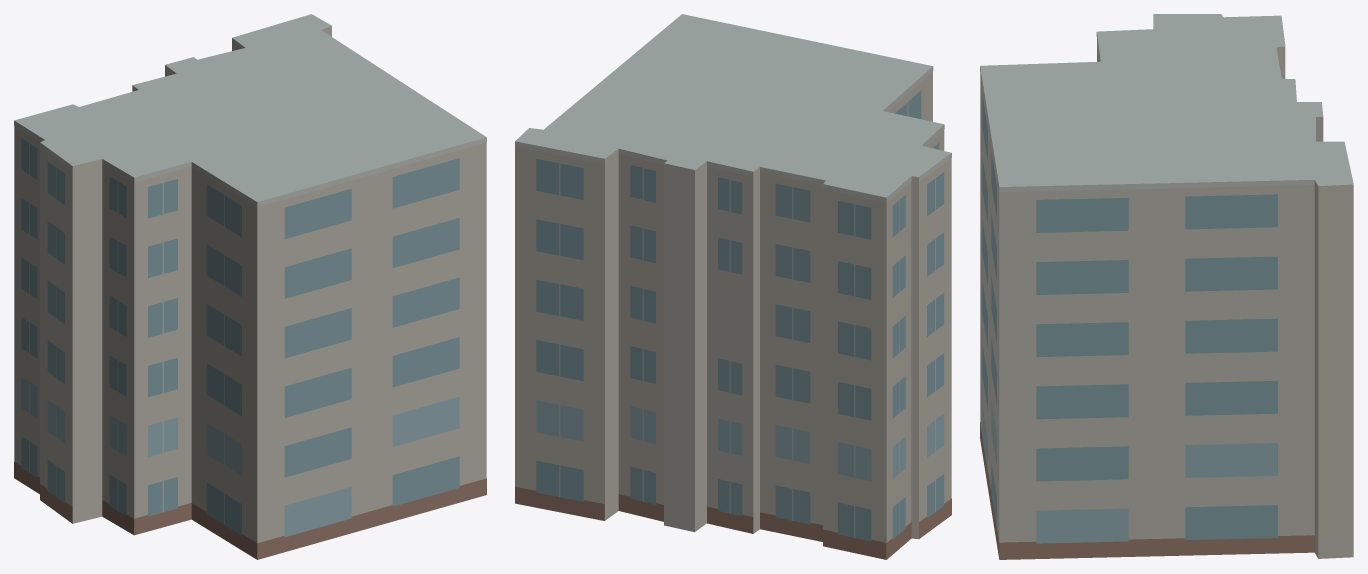
Rendered from survey-upis-32746272.glb.
The picture shows the model from 3 angles, left to right: view 1: azimuth 30°, elevation 25°; view 2: azimuth 150°, elevation 25°; view 3: azimuth 270°, elevation 25°; orthographic projection. The views are drawn at different scales.
Visible parts, largest first — view 1: survey-upis-32746272.tmp; view 2: survey-upis-32746272.tmp; view 3: survey-upis-32746272.tmp.
Boxes of the visible parts, x1,y1,x2,y2 form: survey-upis-32746272.tmp: (14,14,486,559); survey-upis-32746272.tmp: (515,14,951,559); survey-upis-32746272.tmp: (980,14,1353,559).
Size of the model in its own units: 17.04 by 17.1 by 15.54.
